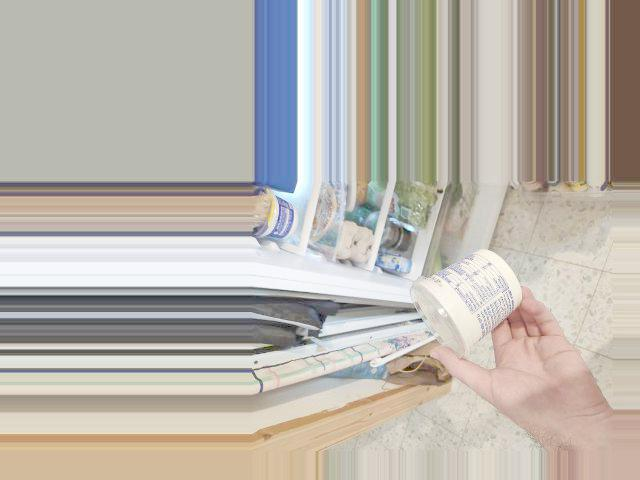cotage: (404, 262, 526, 357)
